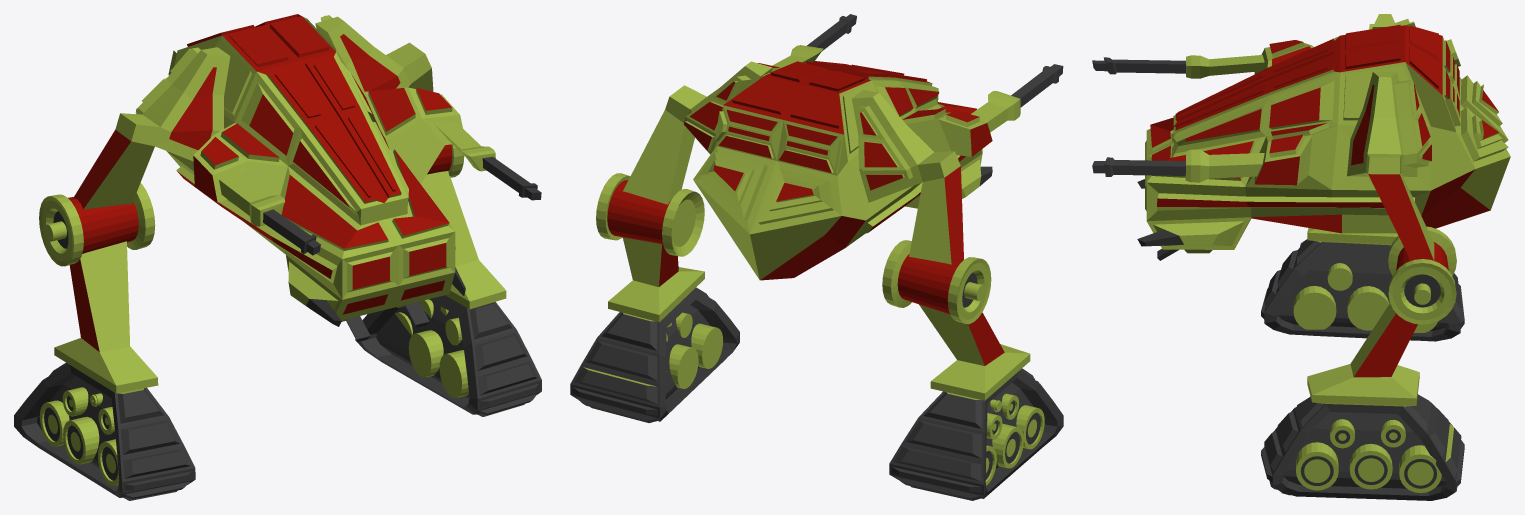
The model's file is MECH.fbx.
The picture shows the model from 3 angles, left to right: view 1: azimuth 30°, elevation 25°; view 2: azimuth 150°, elevation 25°; view 3: azimuth 270°, elevation 25°; orthographic projection. The views are drawn at different scales.
Visible parts, largest first — view 1: Cube, Cube.001; view 2: Cube, Cube.001; view 3: Cube.001, Cube.
Boxes of the visible parts, x1,y1,x2,y2 form: Cube: (14, 15, 541, 500); Cube.001: (166, 14, 541, 341); Cube: (570, 61, 1063, 500); Cube.001: (693, 14, 1063, 280); Cube.001: (1092, 24, 1510, 260); Cube: (1261, 14, 1464, 500).
Bounding box in the file's own units: 418 × 350 × 362.
